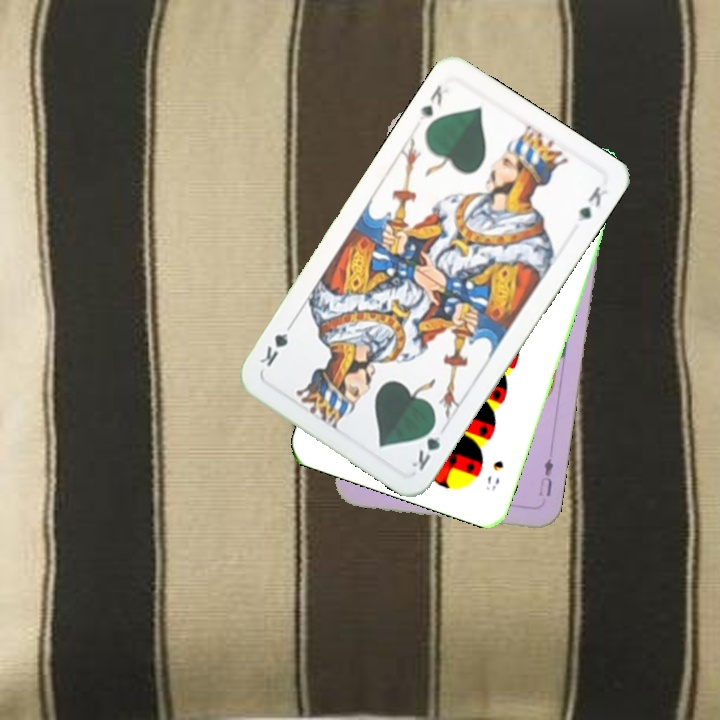EU: (535, 454, 556, 499)
GK: (407, 418, 443, 474), (415, 81, 452, 123)
S8: (482, 456, 506, 494)
